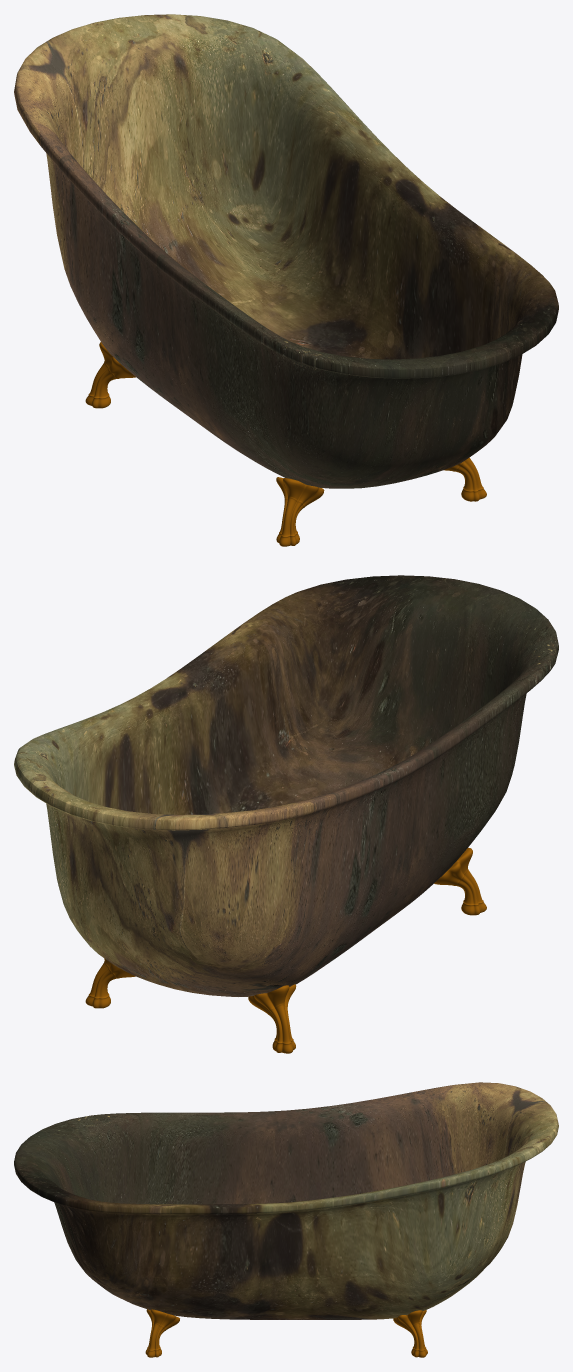
Rendered from bathtub.fbx.
3 renders of one model, top to bottom at view 1: azimuth 30°, elevation 25°; view 2: azimuth 150°, elevation 25°; view 3: azimuth 270°, elevation 25°, orthographic. The views are drawn at different scales.
Visible parts, largest first — view 1: Victorian Porcelain Bathtub|BathTub_Body_L_victorian_po_3b14, Victorian Porcelain Bathtub|BathTub_Legs_L_victorian_po_094f; view 2: Victorian Porcelain Bathtub|BathTub_Body_L_victorian_po_3b14, Victorian Porcelain Bathtub|BathTub_Legs_L_victorian_po_094f; view 3: Victorian Porcelain Bathtub|BathTub_Body_L_victorian_po_3b14, Victorian Porcelain Bathtub|BathTub_Legs_L_victorian_po_094f.
Boxes of the visible parts, x1,y1,x2,y2 form: Victorian Porcelain Bathtub|BathTub_Body_L_victorian_po_3b14: [14, 14, 558, 488]; Victorian Porcelain Bathtub|BathTub_Legs_L_victorian_po_094f: [85, 342, 486, 546]; Victorian Porcelain Bathtub|BathTub_Body_L_victorian_po_3b14: [14, 575, 558, 996]; Victorian Porcelain Bathtub|BathTub_Legs_L_victorian_po_094f: [85, 847, 486, 1053]; Victorian Porcelain Bathtub|BathTub_Body_L_victorian_po_3b14: [14, 1082, 558, 1319]; Victorian Porcelain Bathtub|BathTub_Legs_L_victorian_po_094f: [145, 1309, 427, 1357].
Size of the model in its own units: 122 by 121 by 294.
